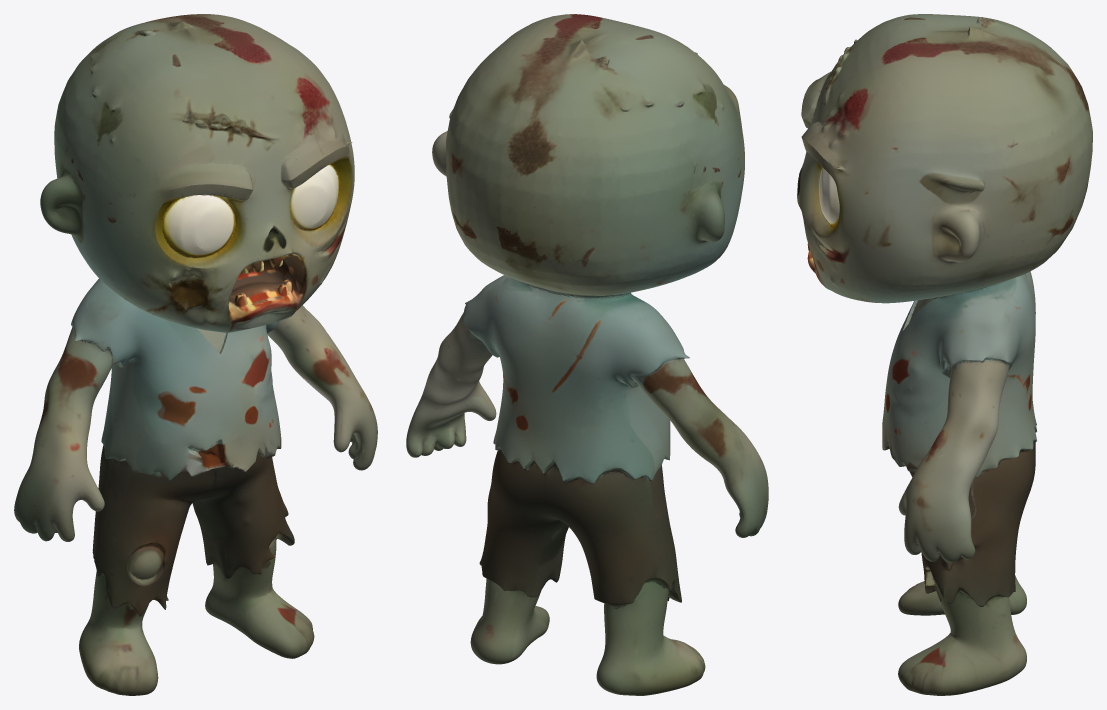
Rendered from base_basic_pbr.fbx.
3 views of the same model, side by side, from view 1: azimuth 30°, elevation 25°; view 2: azimuth 150°, elevation 25°; view 3: azimuth 270°, elevation 25° (orthographic).
Visible parts, largest first — view 1: model; view 2: model; view 3: model.
Boxes of the visible parts, box(x1,y1,x2,y2) form: model: box(14, 14, 377, 695); model: box(406, 14, 768, 695); model: box(797, 14, 1092, 695).
Bounding box in the file's own units: 110 × 190 × 82.11.
1 material, 1 textured.
